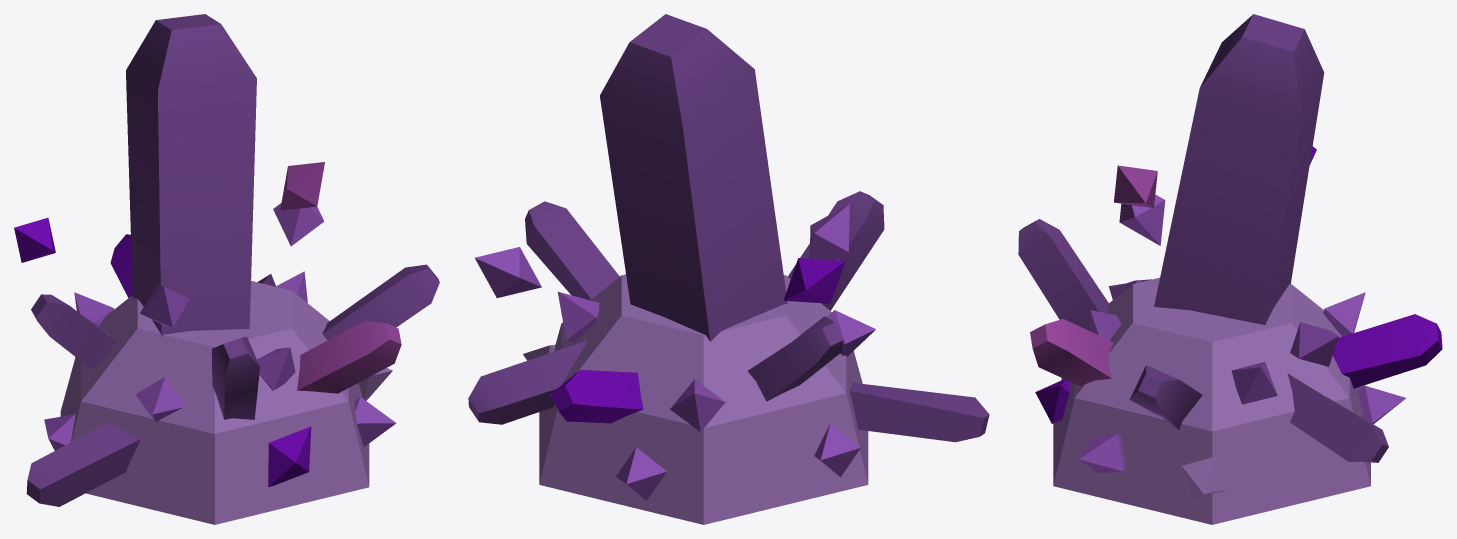
The model's file is enviornment_diamond_growth_asset.fbx.
3 renders of one model, left to right at view 1: azimuth 30°, elevation 25°; view 2: azimuth 150°, elevation 25°; view 3: azimuth 270°, elevation 25°, orthographic. The views are drawn at different scales.
Visible parts, largest first — view 1: diamond_growth; view 2: diamond_growth; view 3: diamond_growth.
Part boxes in pixels (left/top/right/bottom): diamond_growth: left=14, top=14, right=439, bottom=524; diamond_growth: left=468, top=14, right=989, bottom=524; diamond_growth: left=1018, top=14, right=1442, bottom=524.
Bounding box in the file's own units: 11.58 × 10.78 × 9.82.
